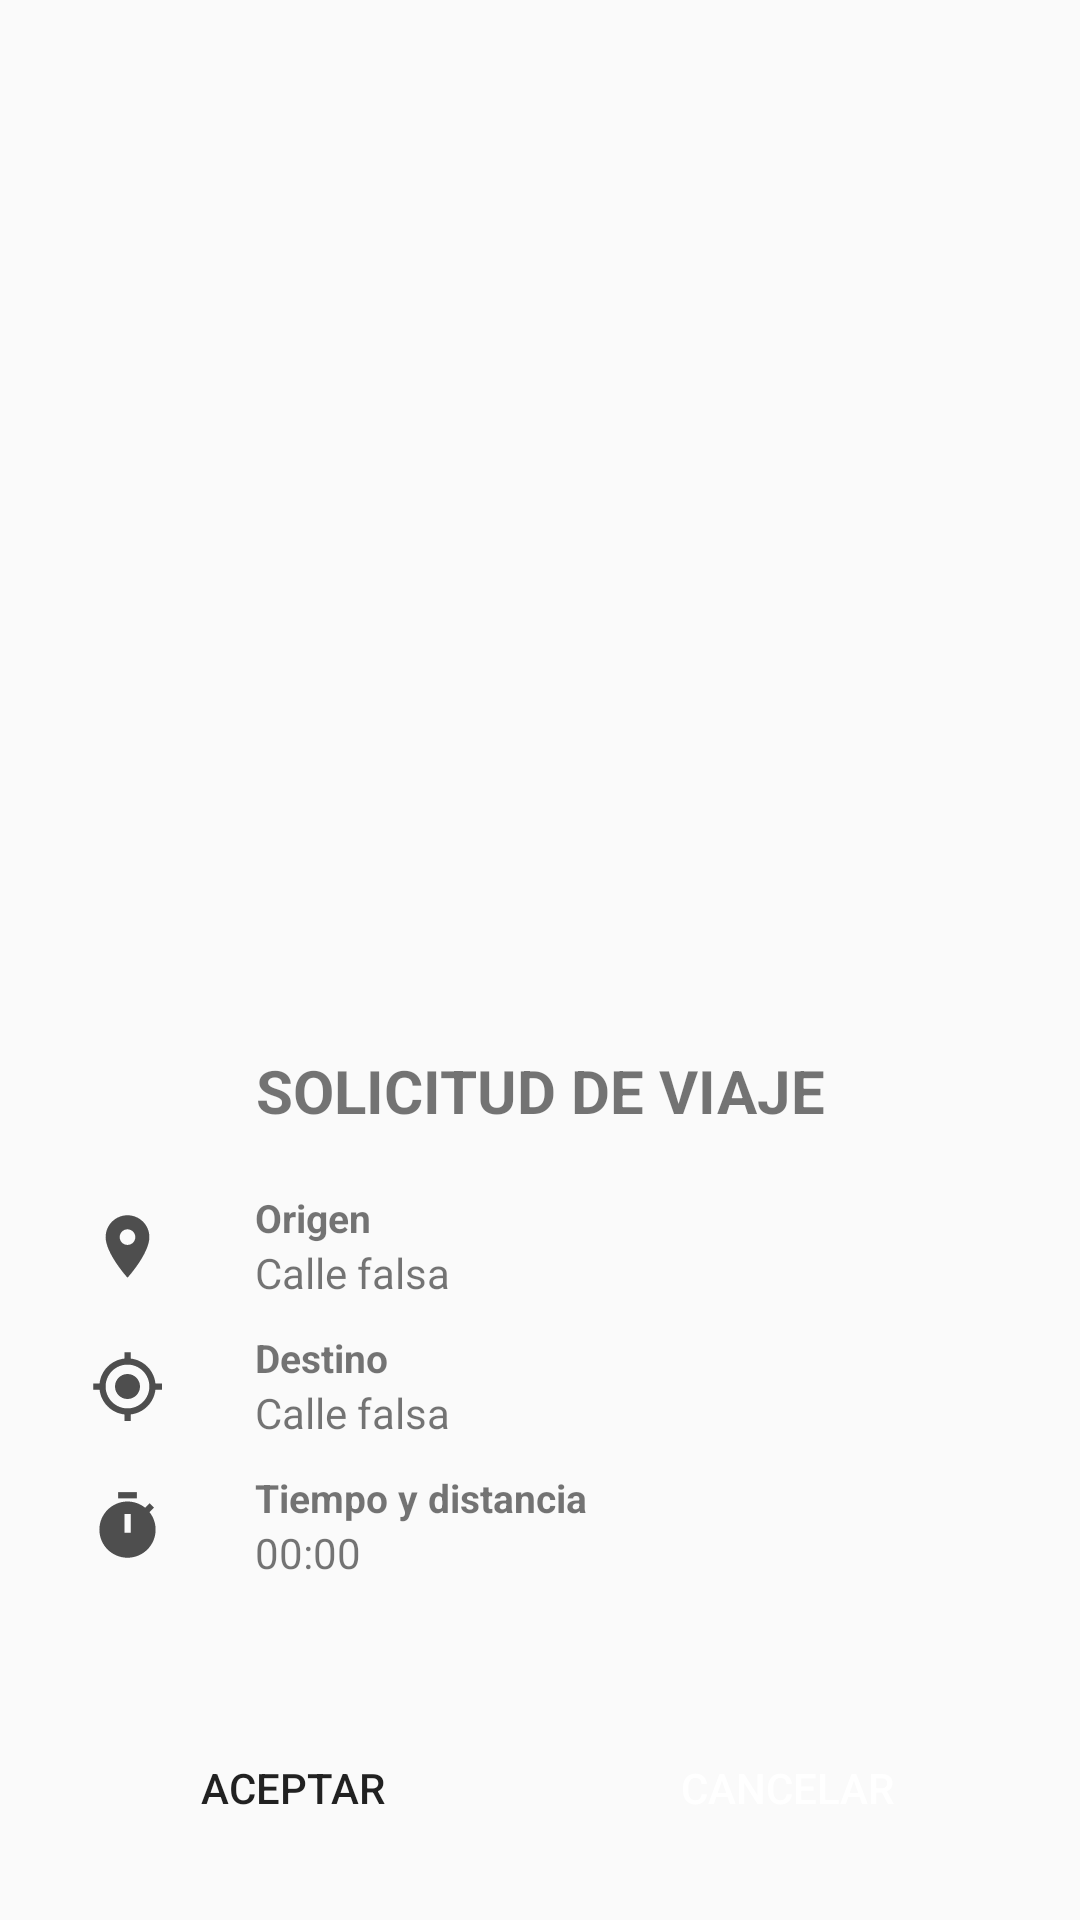

Icon bounding boxes for this 1080x1920 phone screenshot, format (x1, y1, x2, y2):
location: (105, 1215, 150, 1278)
mylocation: (93, 1352, 162, 1421)
time: (99, 1492, 156, 1558)
